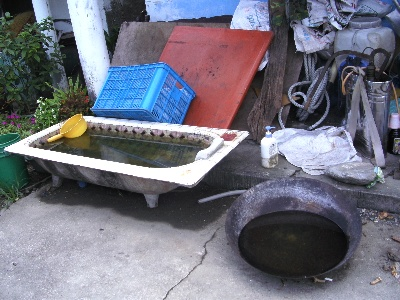bottle: (259, 124, 282, 167)
bowl: (47, 112, 88, 145)
bucket: (1, 133, 30, 194)
plastic_bag: (272, 124, 361, 174)
plate: (224, 176, 366, 280)
tub: (5, 110, 250, 213)
